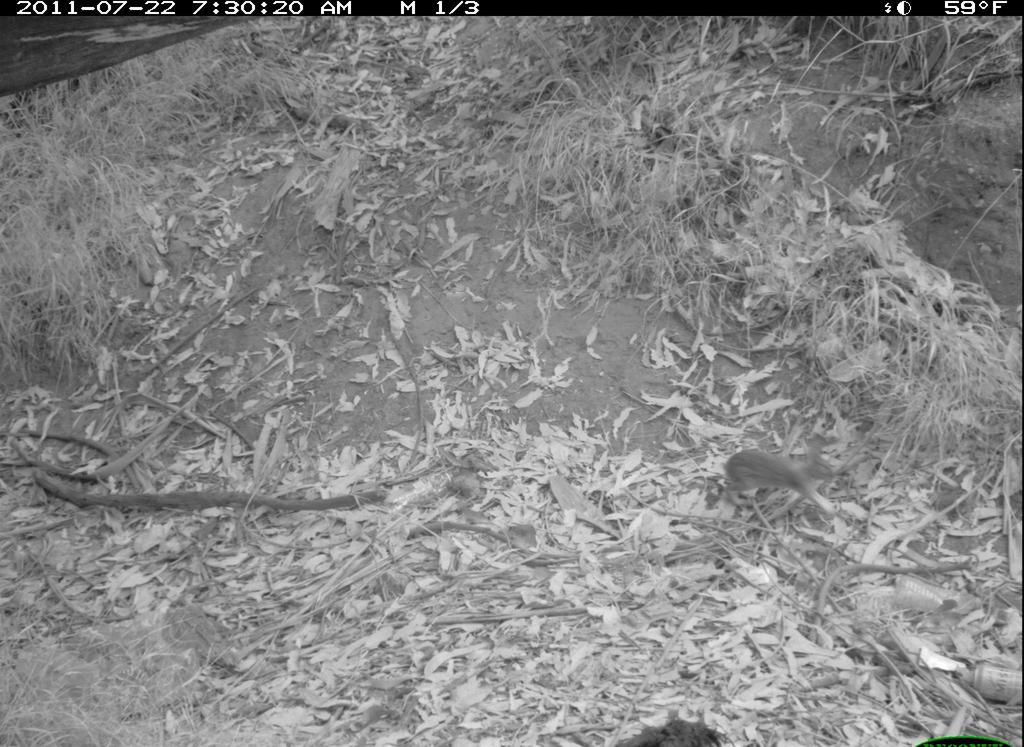rabbit: (715, 432, 844, 525)
